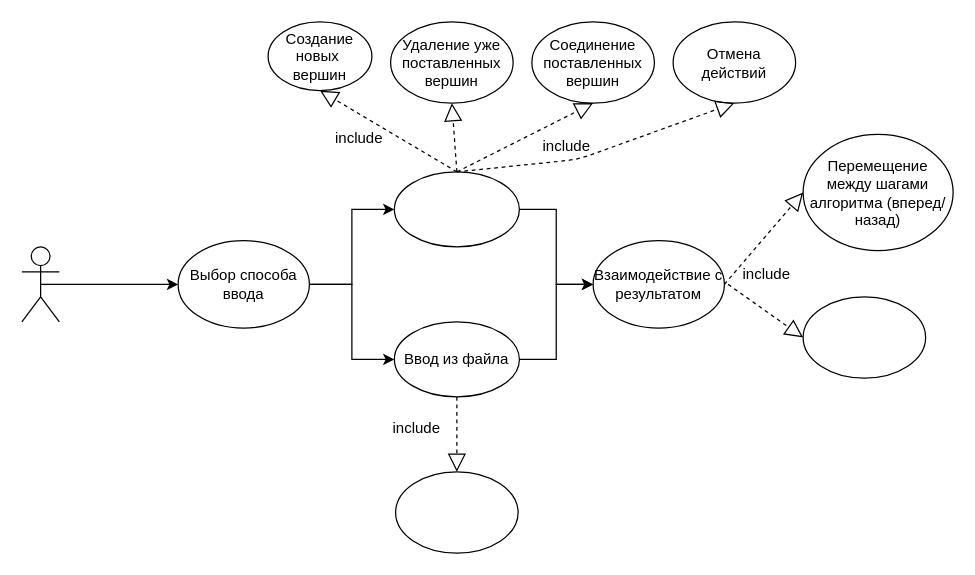
Some shapes in this 975 by 575 pixel diagram are drawn without their labels. The shapes that lost their labels are listed below. From the top down, each one's box as (x1, y1, x2, y2) in pixels, then its label:
(393, 171, 519, 247): Ввод вручную
(21, 246, 59, 322): Actor
(802, 296, 926, 378): Сохранение результата в файл
(394, 471, 518, 553): Задание пути до графа
